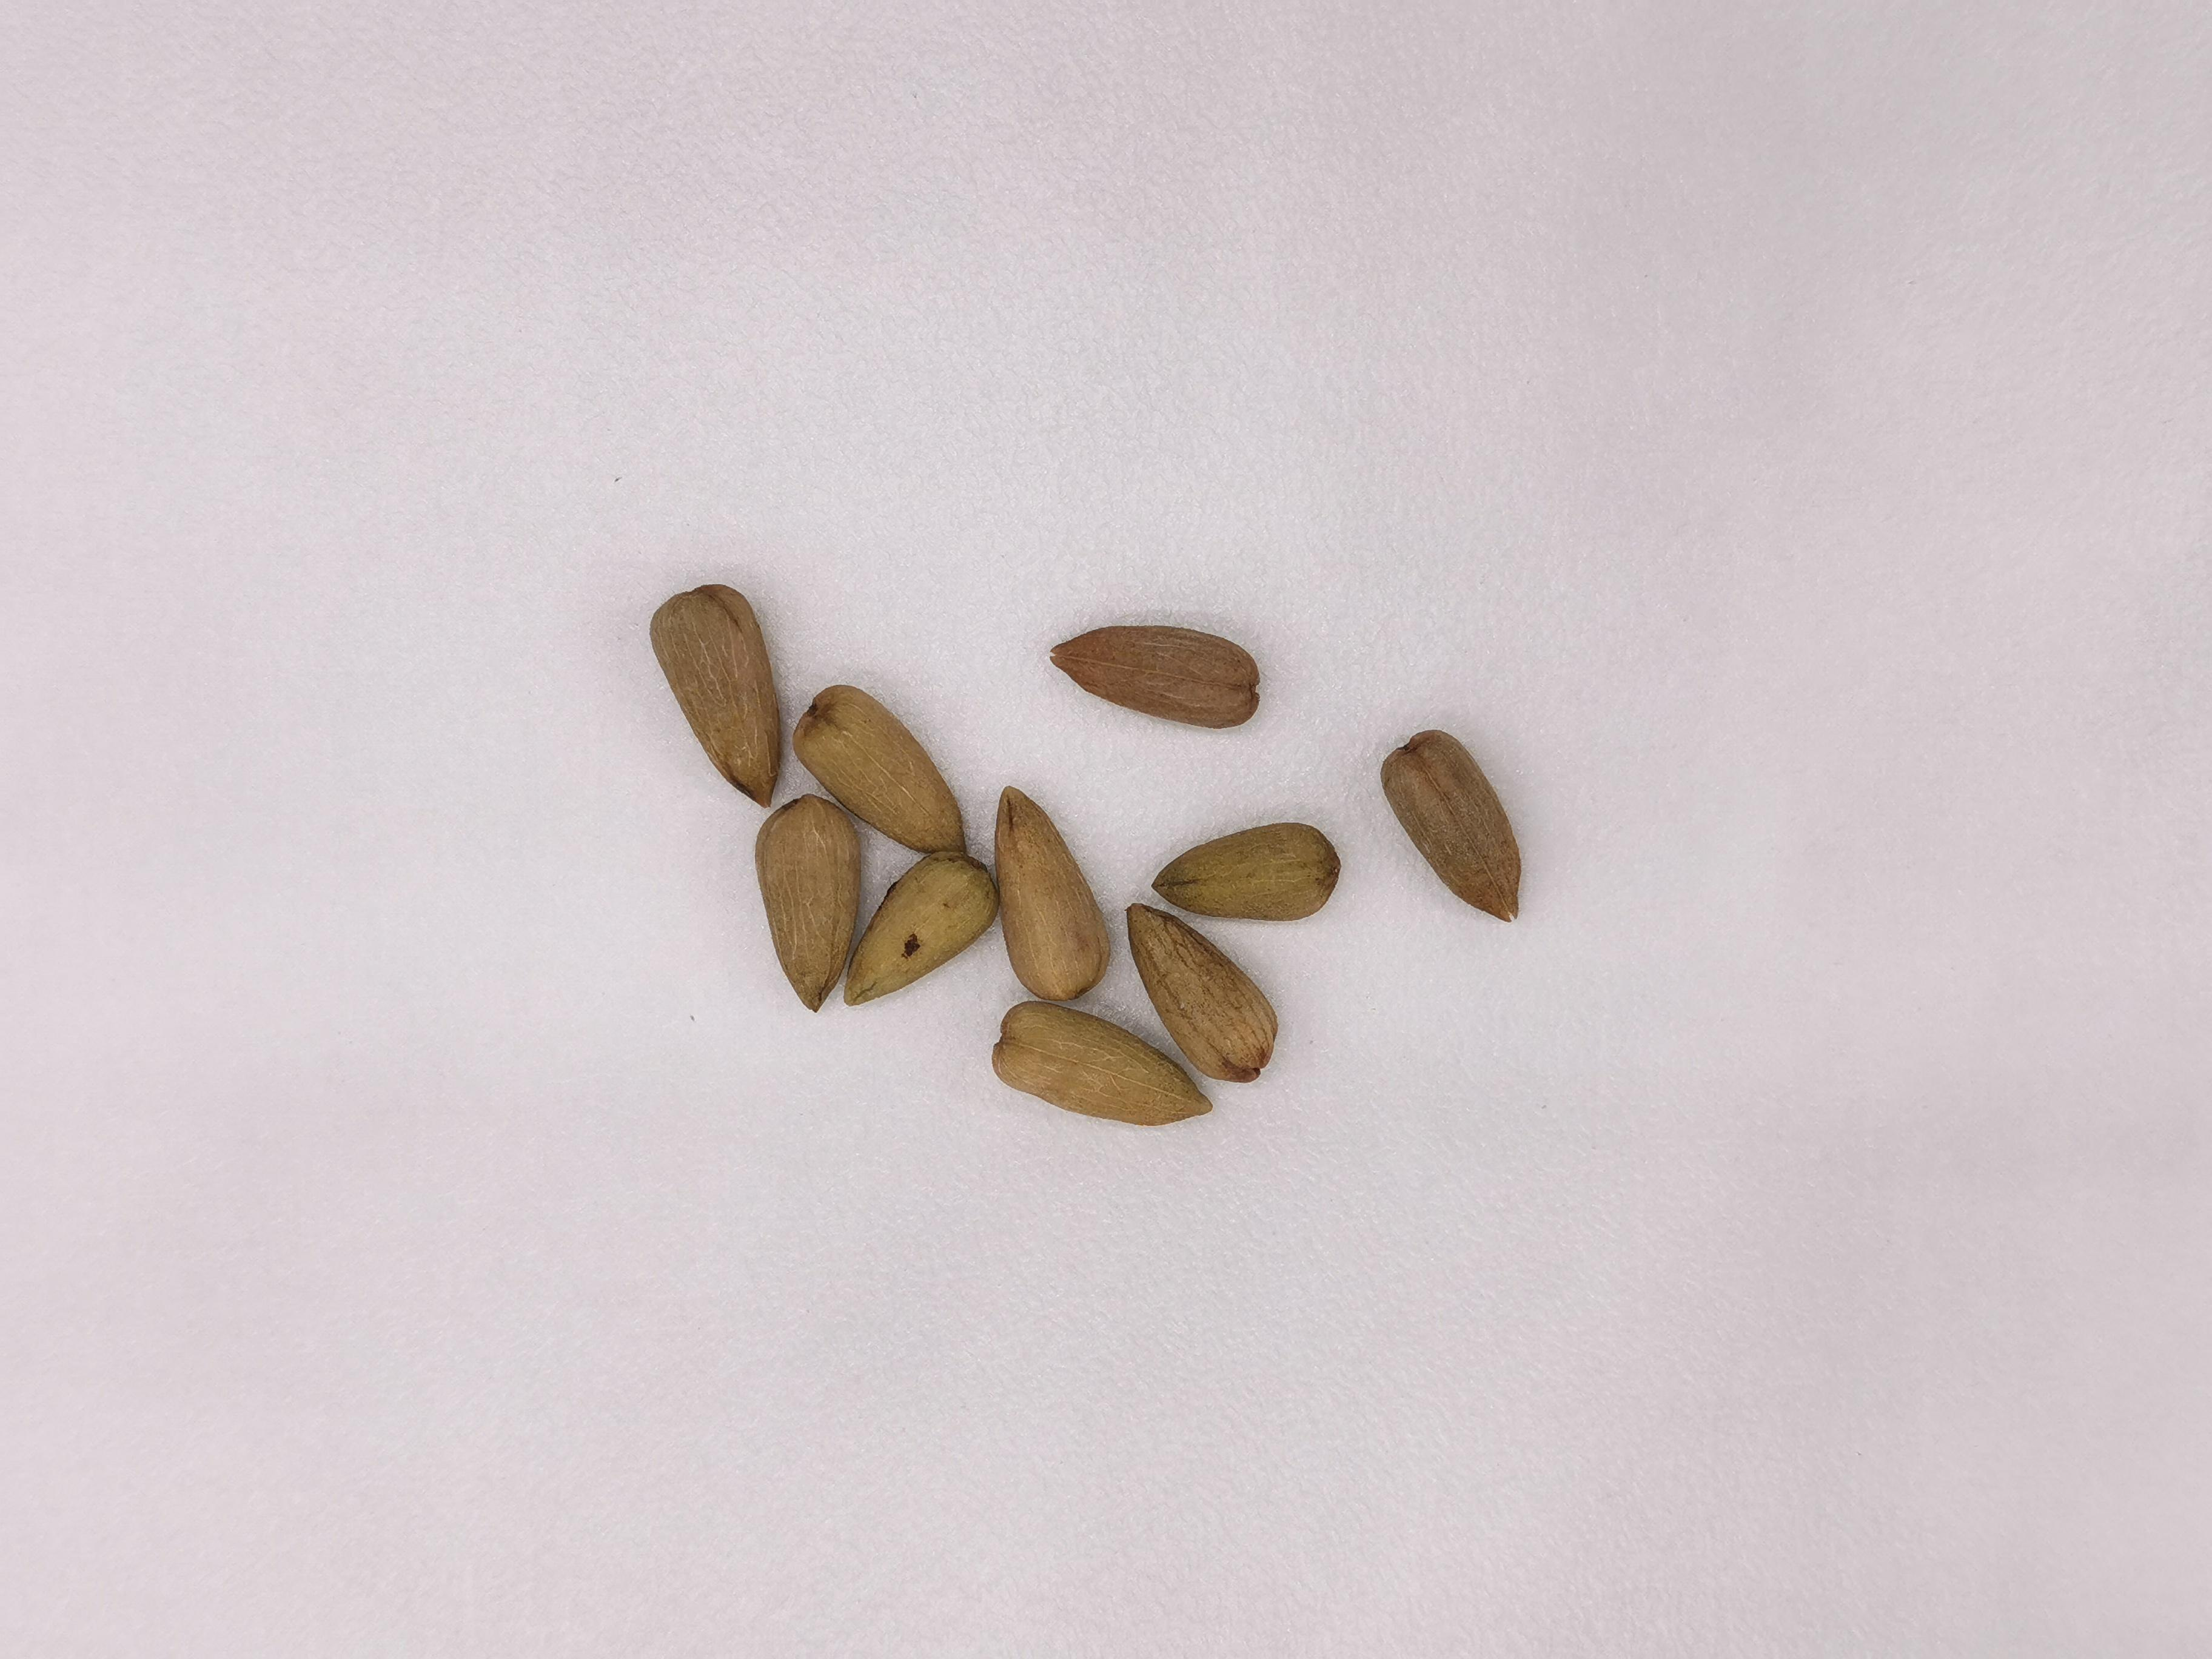seed: (650, 584, 782, 810), (796, 683, 967, 854), (988, 999, 1212, 1122), (1376, 730, 1522, 918), (1130, 901, 1277, 1079), (996, 784, 1109, 999), (752, 796, 864, 1011), (1049, 624, 1258, 732), (845, 854, 993, 1002), (1153, 819, 1343, 924)
